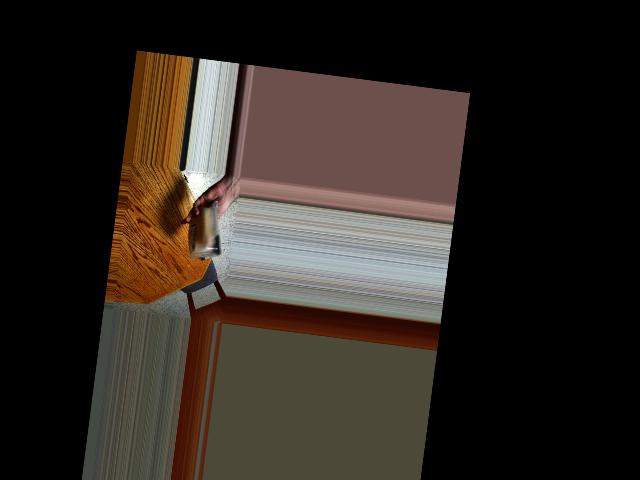cheese: (186, 207, 222, 257)
